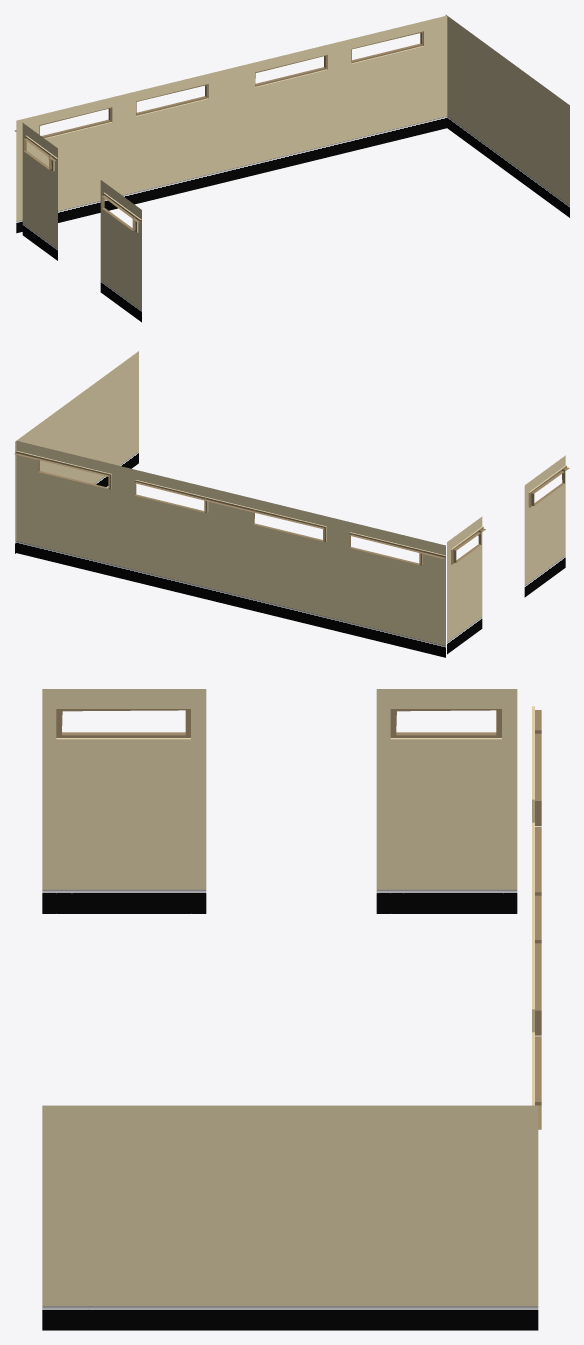
Rendered from p1Ventanas1.fbx.
The picture shows the model from 3 angles, top to bottom: view 1: azimuth 30°, elevation 25°; view 2: azimuth 150°, elevation 25°; view 3: azimuth 270°, elevation 25°; orthographic projection. The views are drawn at different scales.
Parts seen in each view (by area): view 1: pCube24, pCube20, p1paredDerecha, pCube23, pCube22; view 2: pCube24, pCube20, p1paredDerecha, pCube23, pCube22; view 3: p1paredDerecha, pCube23, pCube22, pCube20, pCube24.
Part boxes in pixels (x1,y1,x2,y2): pCube24: (231, 15, 447, 180); pCube20: (14, 68, 231, 233); p1paredDerecha: (445, 15, 569, 217); pCube23: (100, 180, 141, 322); pCube22: (22, 123, 57, 260); pCube24: (14, 440, 231, 605); pCube20: (229, 493, 445, 657); p1paredDerecha: (15, 351, 138, 553); pCube23: (524, 455, 569, 597); pCube22: (447, 516, 485, 654); p1paredDerecha: (42, 1105, 538, 1330); pCube23: (42, 689, 206, 913); pCube22: (376, 689, 517, 913); pCube20: (532, 706, 541, 919); pCube24: (532, 916, 541, 1129).
Size of the model in its own units: 40.14 by 10 by 20.14.
Materials: 2 (1 with a texture image).
